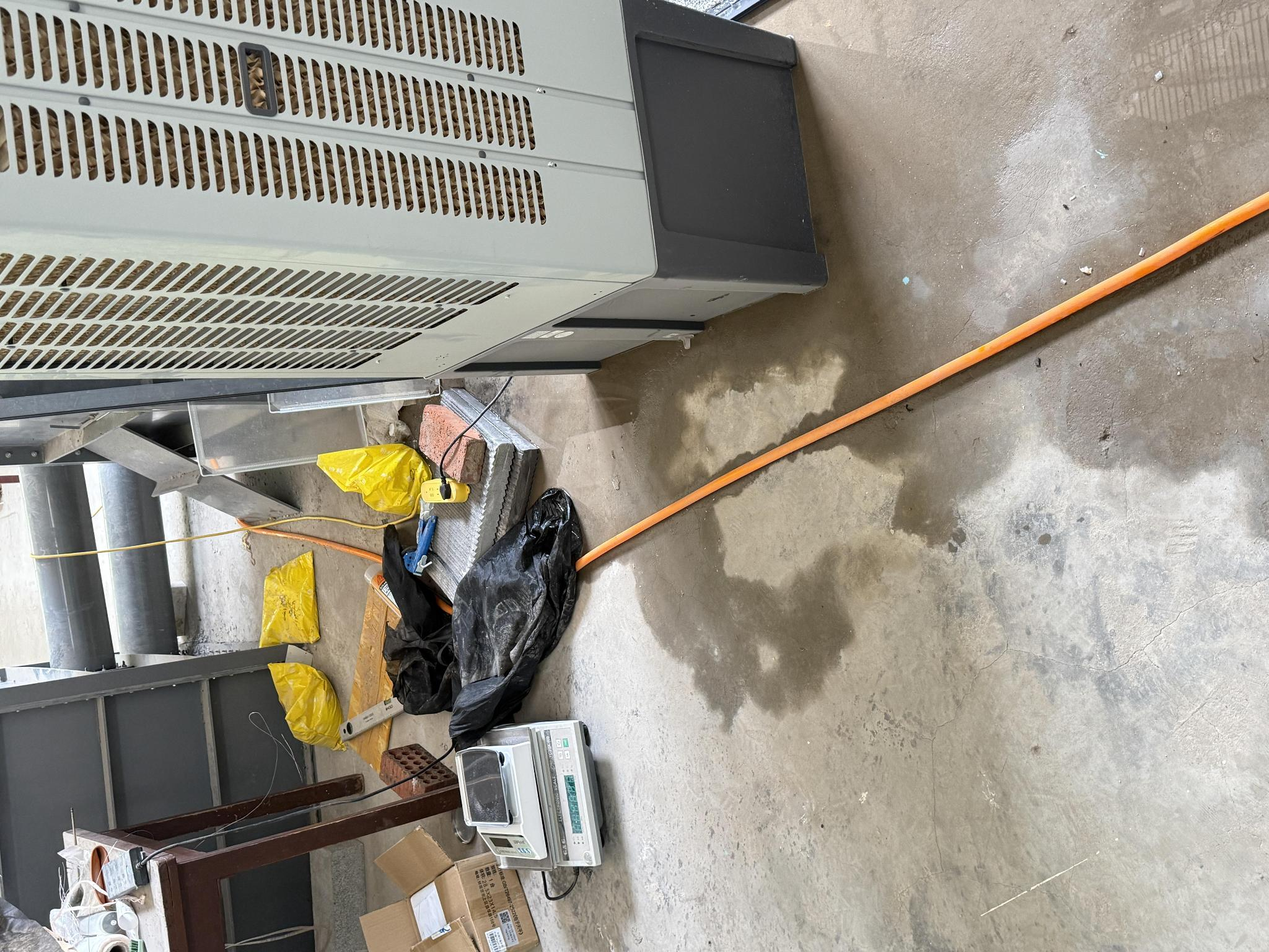water accumulation: (508, 0, 1269, 731)
